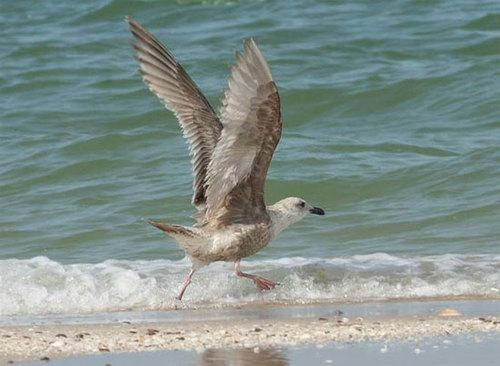bird: (124, 9, 329, 309)
